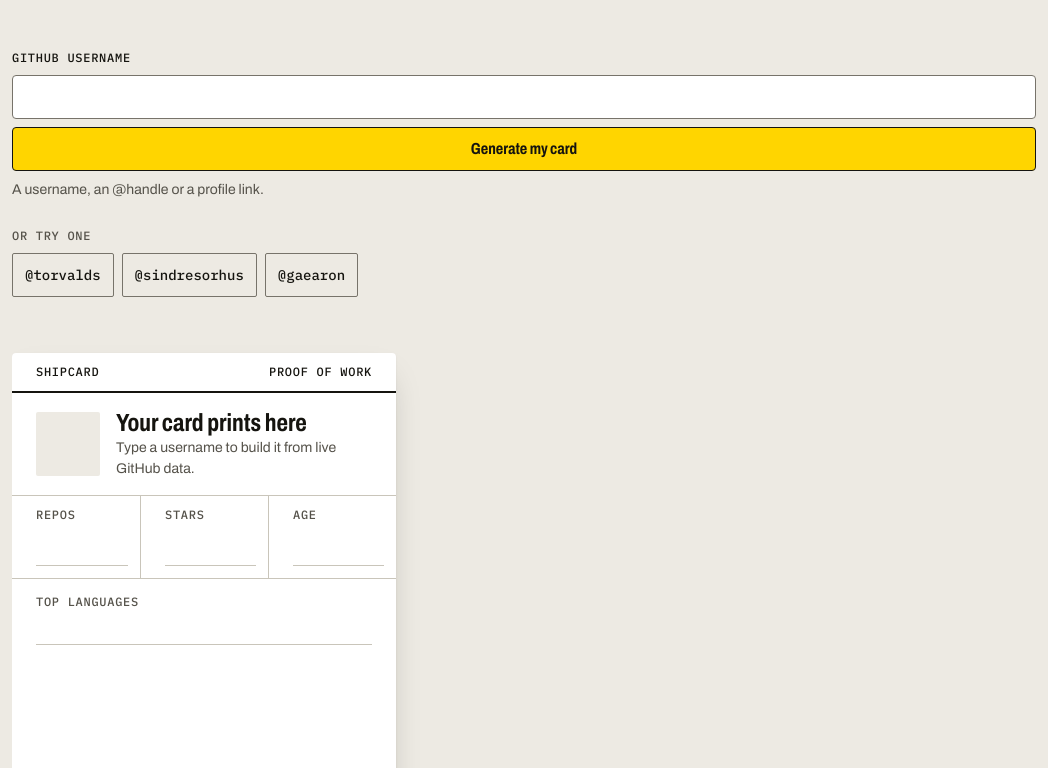
input validation › nothing shows an inline error and makes no request
Click the button "Generate my card": (524, 149) [12,127,1036,171]
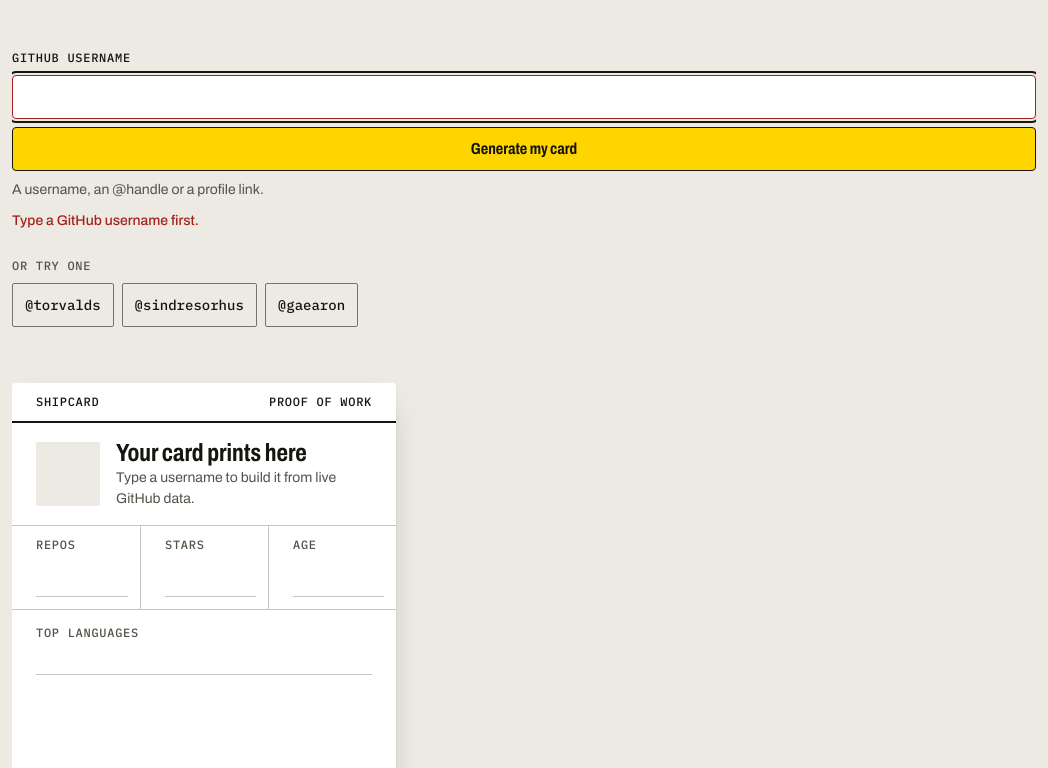
Expected: the message reads "Type a GitHub username first.", [12,213,199,228]
